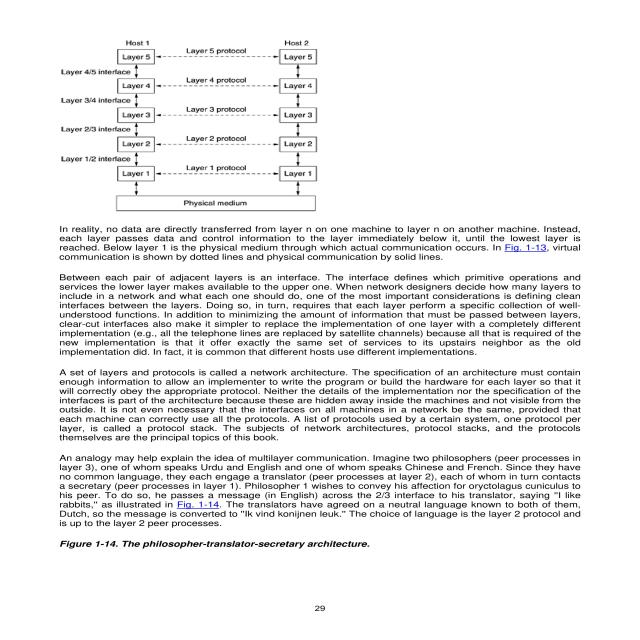diagram: (43, 38, 383, 221)
